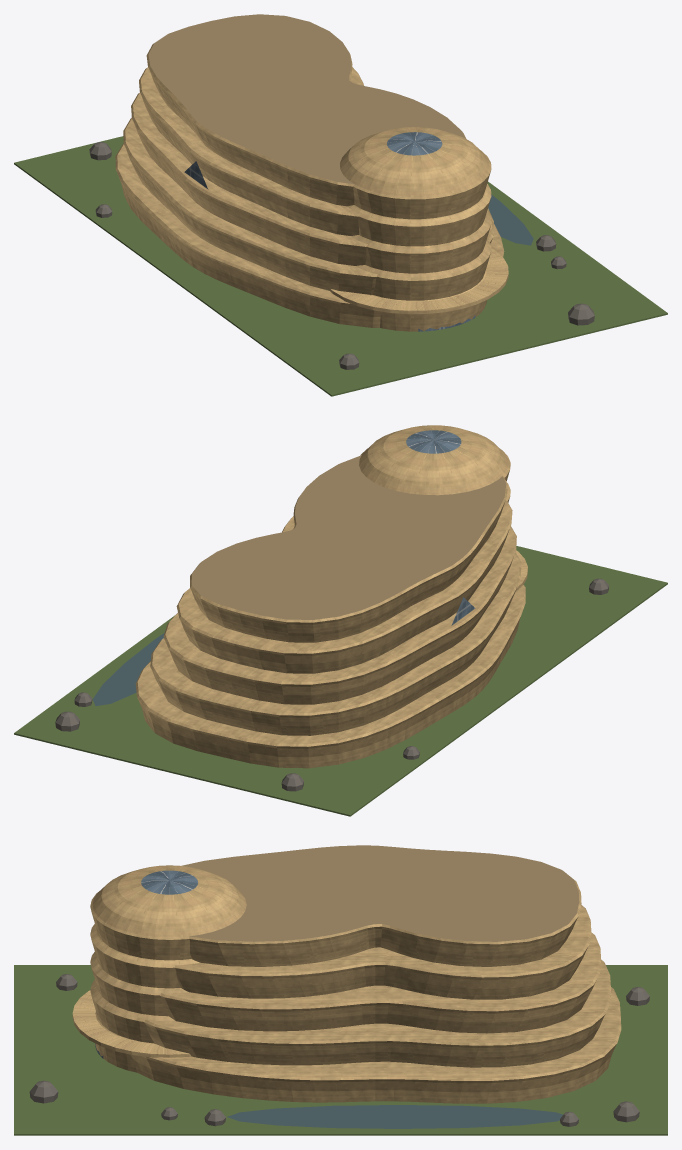
Rendered from nmai.glb.
3 renders of one model, top to bottom at view 1: azimuth 30°, elevation 25°; view 2: azimuth 150°, elevation 25°; view 3: azimuth 270°, elevation 25°, orthographic. The views are drawn at different scales.
Parts seen in each view (by area): view 1: nmai; view 2: nmai; view 3: nmai.
Boxes of the visible parts, <box> form: nmai: <box>14,14,667,396</box>; nmai: <box>14,425,667,816</box>; nmai: <box>14,845,667,1135</box>.
Bounding box in the file's own units: 70.01 × 32 × 114.
Materials: 3 (3 with a texture image).
